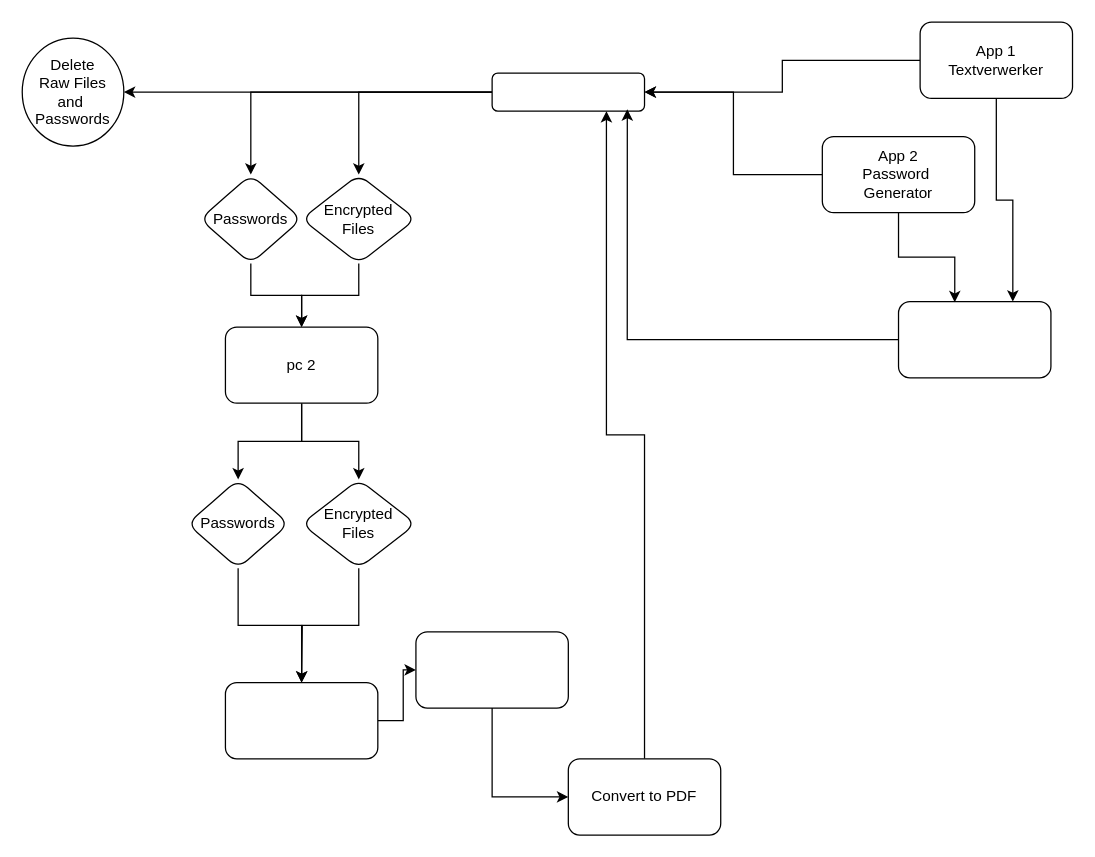
Some shapes in this 1095 by 857 pixel diagram are drawn without their labels. Each missing label, with the centre of its shape:
"App 3 Password Encrypter" goes at [974,339].
"Decrypt" goes at [491,669].
"pc 1" goes at [568,91].
"pc 3" goes at [301,720].
